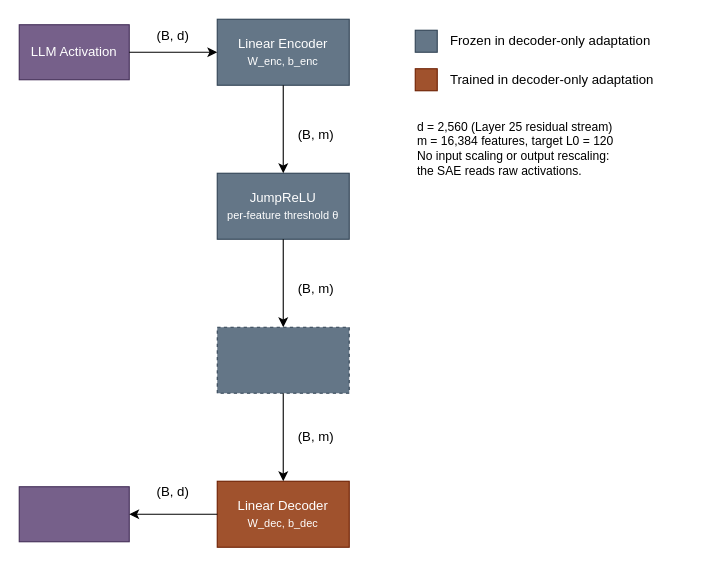
The diagram is 710 pixels wide and 567 high, and some of its shapes have lost their labels. Here are the shapes that lost their labels. From the top down, the centre of each, then its label:
the point at 282,359: Sparse Feature Space
the point at 73,514: Reconstructed Activation
